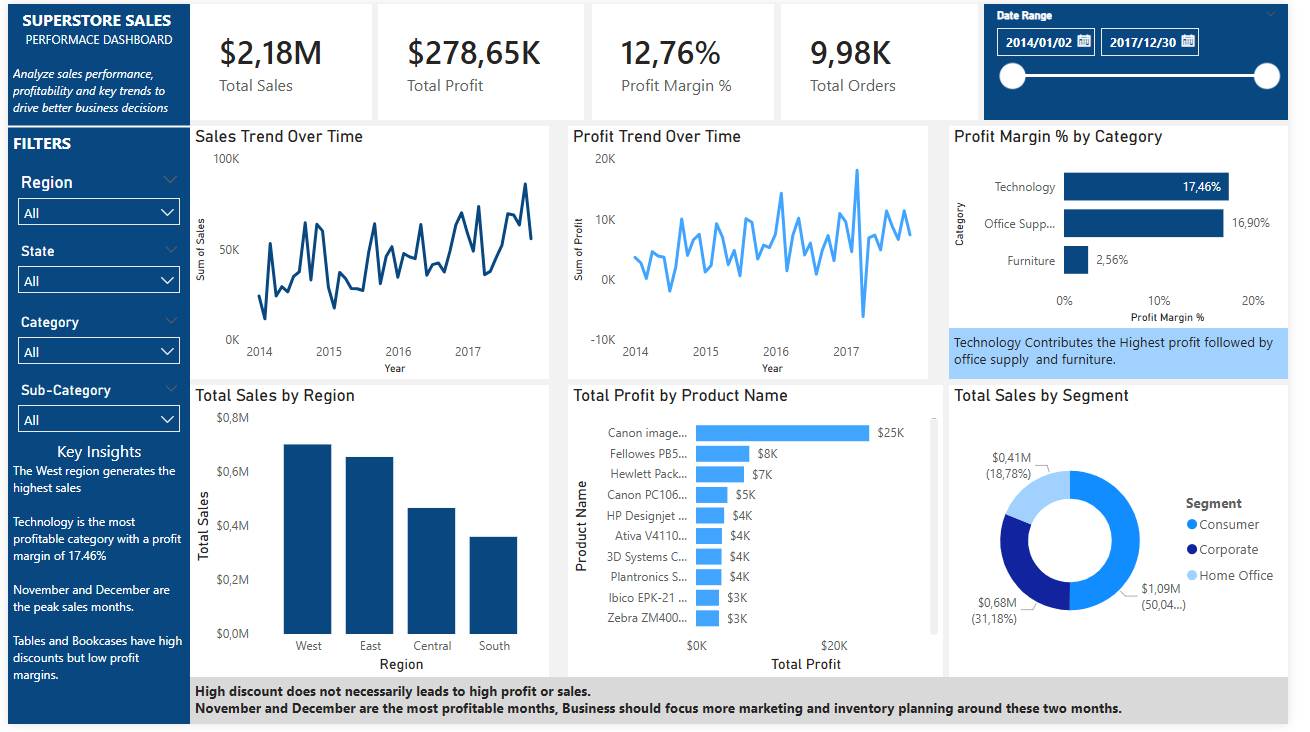

What the dashboard file says about the page in this screenshot:
{"tool":"powerbi","page":{"name":"Page 1","canvas":[1280,720],"ordinal":0},"visuals":[{"type":"textbox","box":[0,0,182,720.2],"z":0},{"type":"slicer","fields":{"Values":["Raw_messy_Sample_Superstore.Region"]},"box":[0,163,182,62.1],"z":1000},{"type":"shape","box":[0,116.4,181.8,12.5],"z":2000},{"type":"slicer","fields":{"Values":["Raw_messy_Sample_Superstore.State"]},"box":[0,233.7,181.8,70.7],"z":3000},{"type":"cardVisual","fields":{"Data":["Raw_messy_Sample_Superstore.Total Sales"]},"box":[181.8,0,181.8,116.2],"z":4000},{"type":"cardVisual","fields":{"Data":["Raw_messy_Sample_Superstore.Total Profit"]},"box":[369.8,0,206.6,116.2],"z":5000},{"type":"cardVisual","fields":{"Data":["Raw_messy_Sample_Superstore.Profit Margin %"]},"box":[584.3,0,181.8,116.2],"z":6000},{"type":"cardVisual","fields":{"Data":["Raw_messy_Sample_Superstore.Total Orders"]},"box":[773.2,0,196.8,116.2],"z":7000},{"type":"slicer","fields":{"Values":["DateTable.Date"]},"box":[976.3,0,304.1,116.2],"z":8000},{"type":"lineChart","title":"Sales Trend  Over Time","fields":{"Y":["Sum(Raw_messy_Sample_Superstore.Sales)"],"Category":["DateTable.Date.Variation.Date Hierarchy.Year","DateTable.Date.Variation.Date Hierarchy.Quarter","DateTable.Date.Variation.Date Hierarchy.Month"]},"box":[181.8,122.4,359.1,252.7],"z":9000},{"type":"lineChart","title":"Profit Trend Over Time","fields":{"Category":["DateTable.Date.Variation.Date Hierarchy.Year","DateTable.Date.Variation.Date Hierarchy.Quarter","DateTable.Date.Variation.Date Hierarchy.Month"],"Y":["Sum(Raw_messy_Sample_Superstore.Profit)"]},"box":[560.4,122.4,359.1,252.7],"z":10000},{"type":"barChart","fields":{"Category":["Raw_messy_Sample_Superstore.Category"],"Y":["Raw_messy_Sample_Superstore.Profit Margin %"]},"box":[940.8,122.4,339.6,201.3],"z":11000},{"type":"textbox","box":[940.8,323.6,339.6,51.4],"z":12000},{"type":"columnChart","fields":{"Category":["Raw_messy_Sample_Superstore.Region"],"Y":["Raw_messy_Sample_Superstore.Total Sales"]},"box":[182,381,359,292],"z":13000},{"type":"barChart","fields":{"Category":["Raw_messy_Sample_Superstore.Product Name"],"Y":["Raw_messy_Sample_Superstore.Total Profit"]},"box":[560,381,375,292],"z":14000},{"type":"donutChart","fields":{"Y":["Raw_messy_Sample_Superstore.Total Sales"],"Category":["Raw_messy_Sample_Superstore.Segment"]},"box":[940.8,381.3,339.6,291.7],"z":15000},{"type":"slicer","fields":{"Values":["Raw_messy_Sample_Superstore.Category"]},"box":[0,305,181.8,76.3],"z":16000},{"type":"slicer","fields":{"Values":["Raw_messy_Sample_Superstore.Sub-Category"]},"box":[0,373.3,181.8,81.6],"z":17000},{"type":"textbox","box":[0,430.9,181.8,289.1],"z":18000},{"type":"textbox","box":[182,673,1098,47],"z":18001}]}

Visuals, with their boxes in screenshot pixels (x1, y1, x2, y2), scaled from the page's 1280x720 canvas onto the 1310x732 screenshot:
textbox: <region>0, 0, 186, 731</region>
slicer - Raw_messy_Sample_Superstore.Region: <region>0, 166, 186, 229</region>
shape: <region>0, 118, 186, 131</region>
slicer - Raw_messy_Sample_Superstore.State: <region>0, 238, 186, 309</region>
cardVisual - Raw_messy_Sample_Superstore.Total Sales: <region>186, 0, 372, 118</region>
cardVisual - Raw_messy_Sample_Superstore.Total Profit: <region>378, 0, 590, 118</region>
cardVisual - Raw_messy_Sample_Superstore.Profit Margin %: <region>598, 0, 784, 118</region>
cardVisual - Raw_messy_Sample_Superstore.Total Orders: <region>791, 0, 993, 118</region>
slicer - DateTable.Date: <region>999, 0, 1309, 118</region>
"Sales Trend  Over Time" lineChart: <region>186, 124, 554, 381</region>
"Profit Trend Over Time" lineChart: <region>574, 124, 941, 381</region>
barChart - Raw_messy_Sample_Superstore.Category x Raw_messy_Sample_Superstore.Profit Margin %: <region>963, 124, 1309, 329</region>
textbox: <region>963, 329, 1309, 381</region>
columnChart - Raw_messy_Sample_Superstore.Region x Raw_messy_Sample_Superstore.Total Sales: <region>186, 387, 554, 684</region>
barChart - Raw_messy_Sample_Superstore.Product Name x Raw_messy_Sample_Superstore.Total Profit: <region>573, 387, 957, 684</region>
donutChart - Raw_messy_Sample_Superstore.Total Sales x Raw_messy_Sample_Superstore.Segment: <region>963, 388, 1309, 684</region>
slicer - Raw_messy_Sample_Superstore.Category: <region>0, 310, 186, 388</region>
slicer - Raw_messy_Sample_Superstore.Sub-Category: <region>0, 380, 186, 462</region>
textbox: <region>0, 438, 186, 731</region>
textbox: <region>186, 684, 1309, 731</region>
